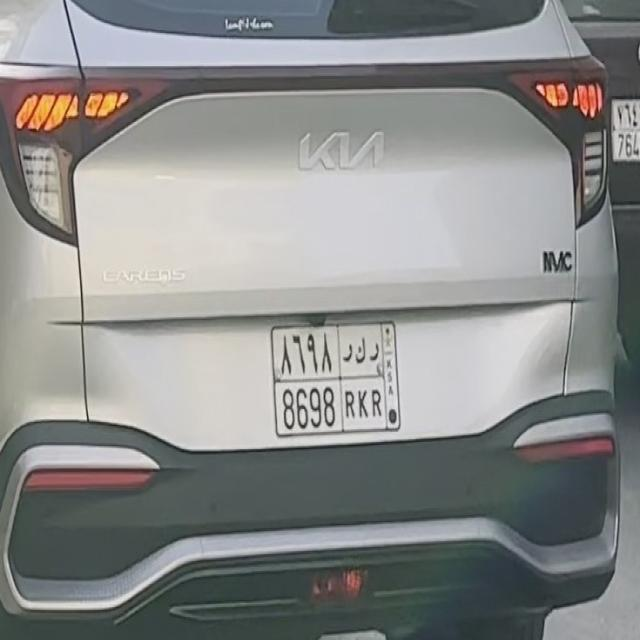Car-plate: (265, 309, 422, 457)
